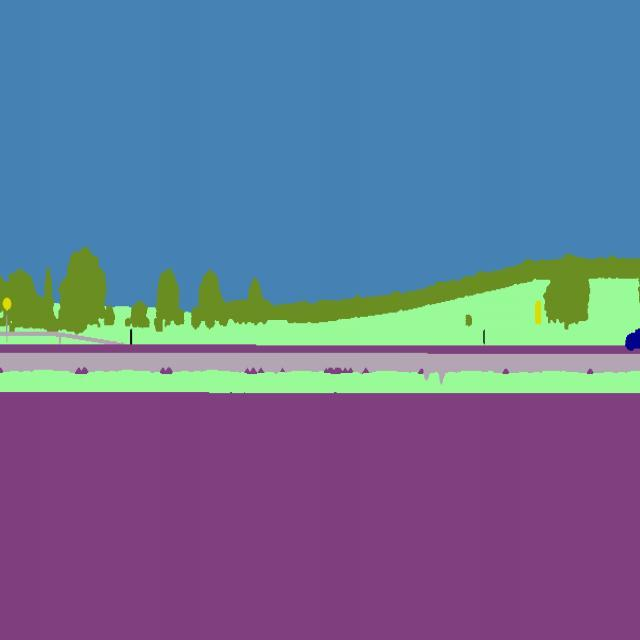safe: (620, 318, 640, 355)
